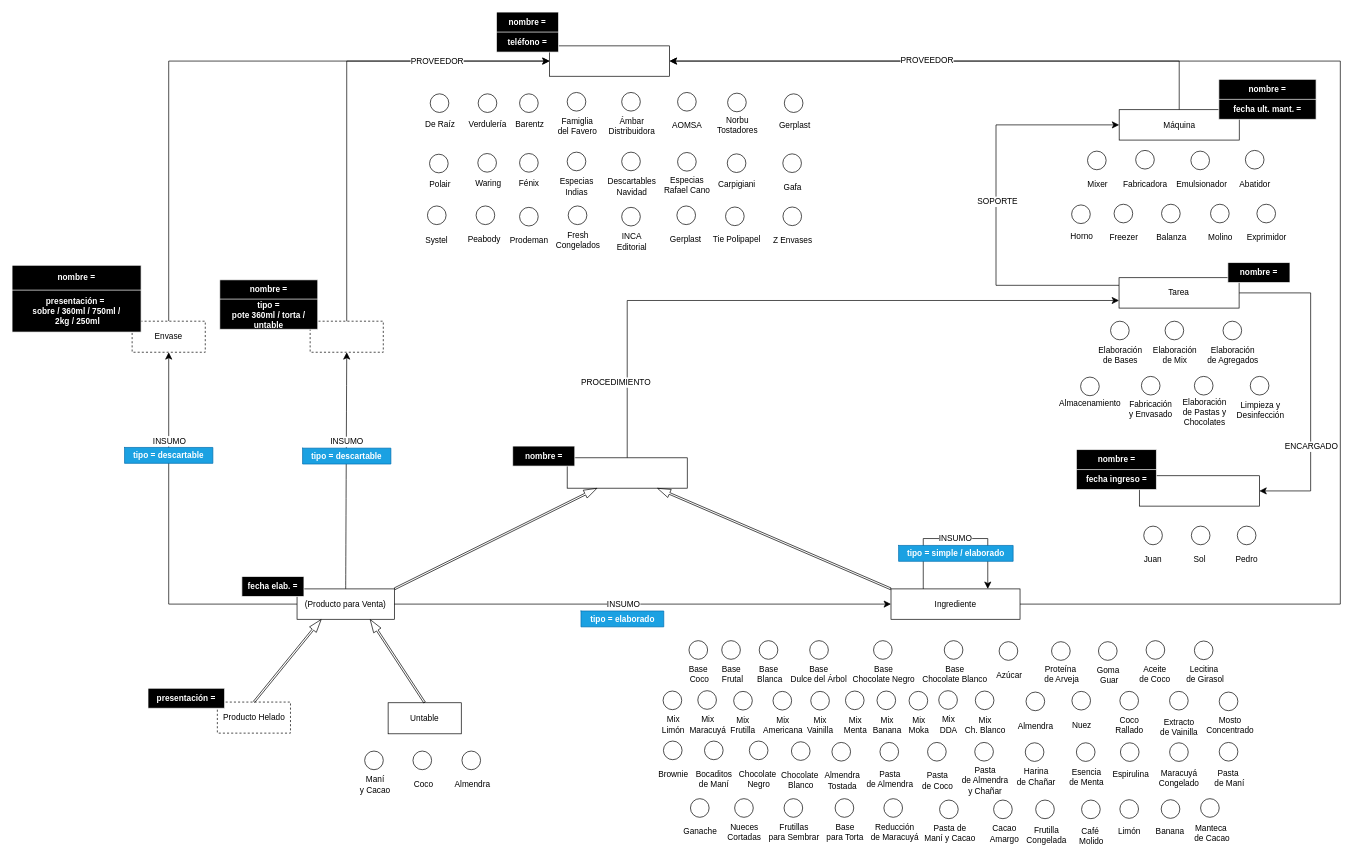
Image size: 1359x862. Some labels were removed from this diagram. The shapes that lost their labels are listed below. From the top down, each one's centre as x and y in pixels, then its label:
the point at 609,60: Empresa
the point at 346,336: Etiqueta
the point at 626,472: (Producto)
the point at 1199,490: Operario
